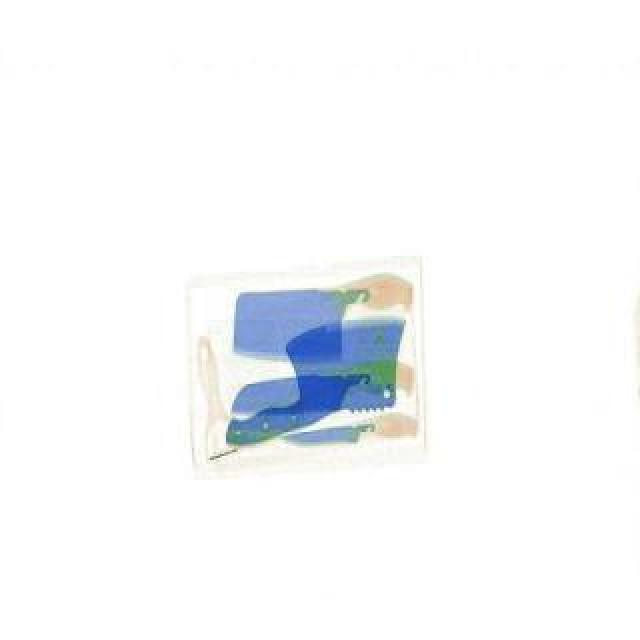knife: (206, 310, 428, 452), (284, 426, 378, 454)
